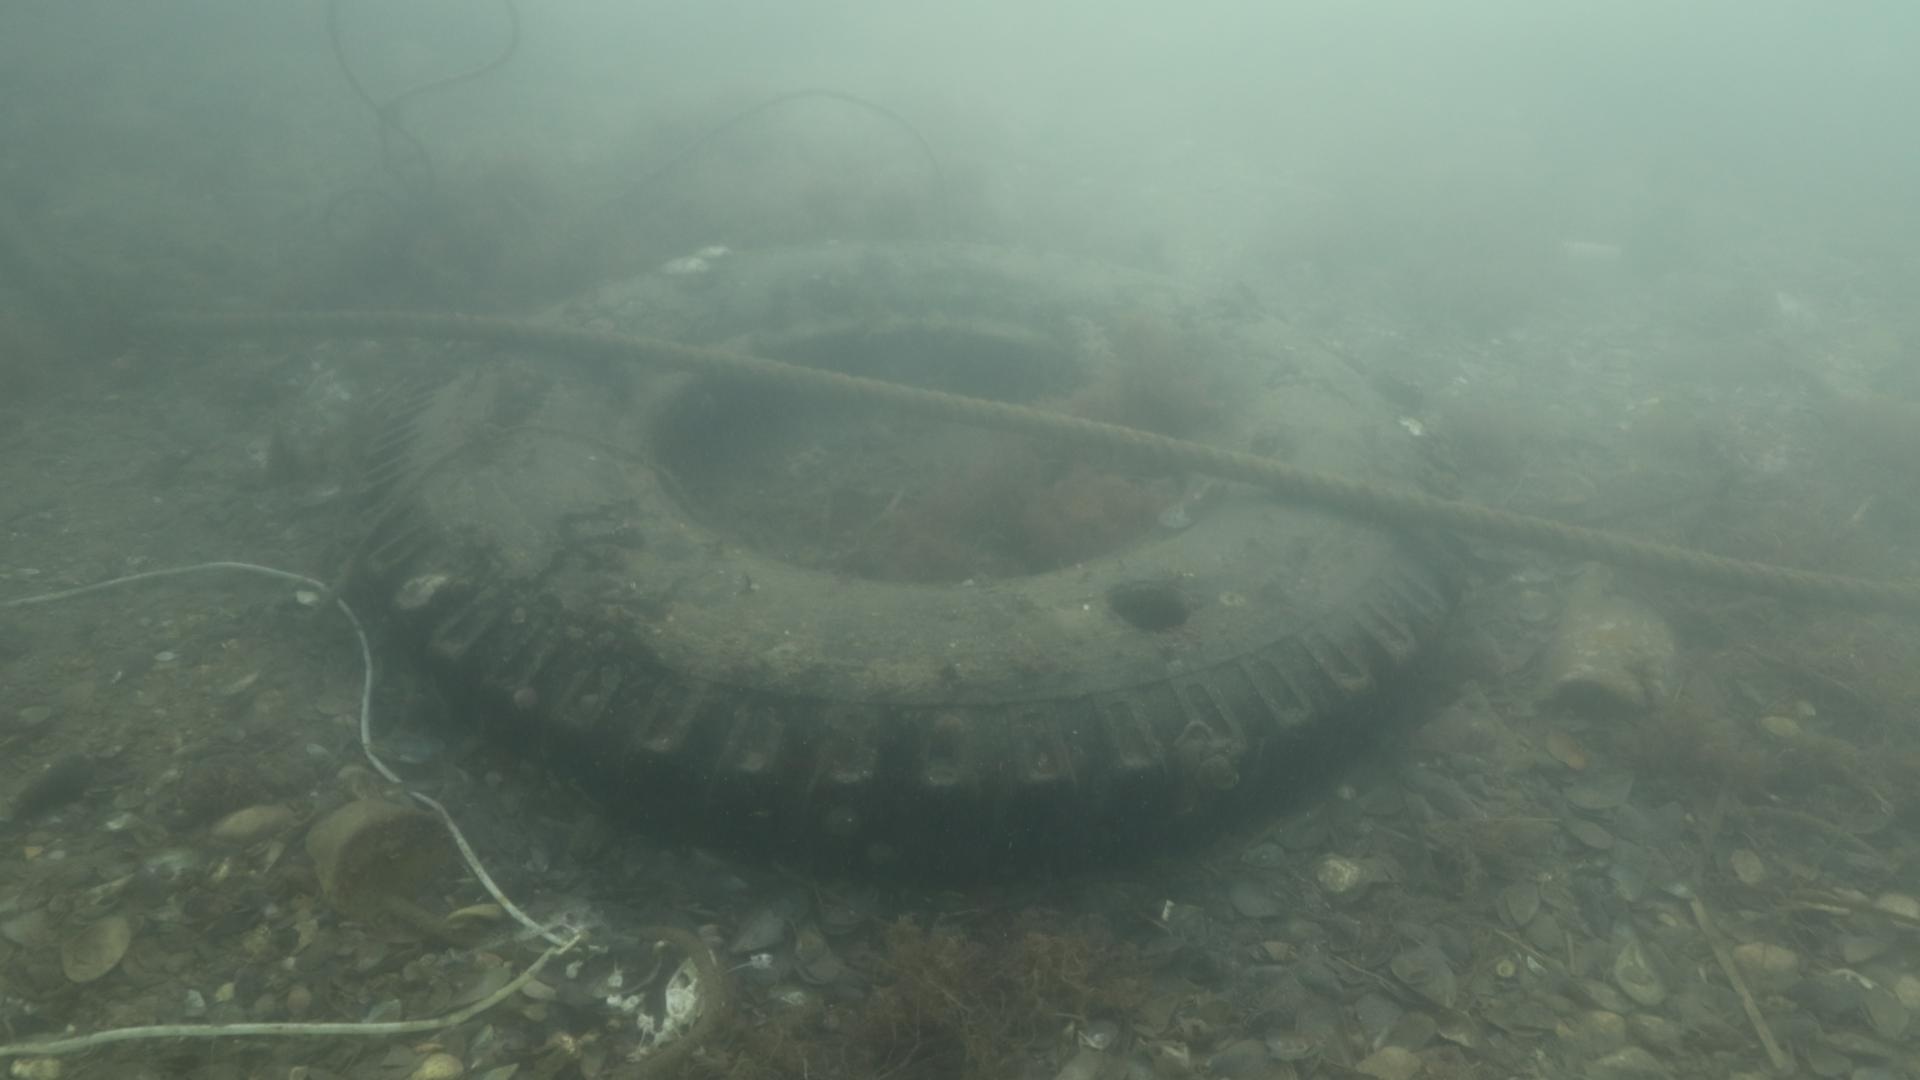rope: (178, 301, 1920, 621)
tire: (359, 241, 1487, 876)
